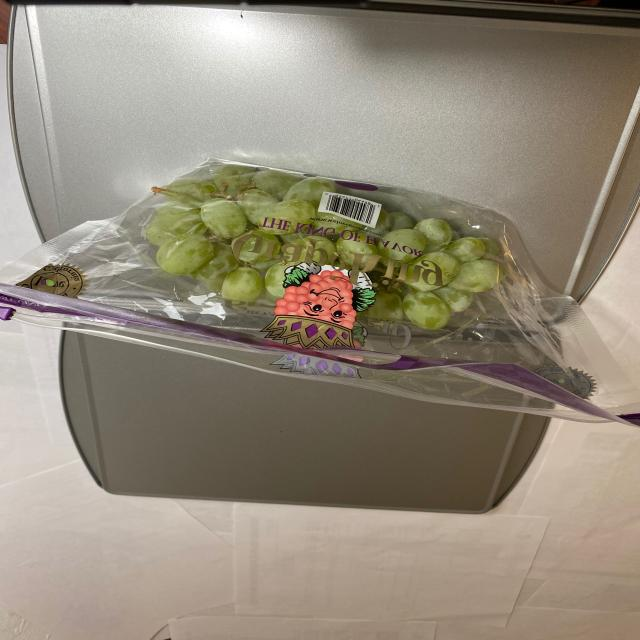grapes: (133, 162, 542, 338)
